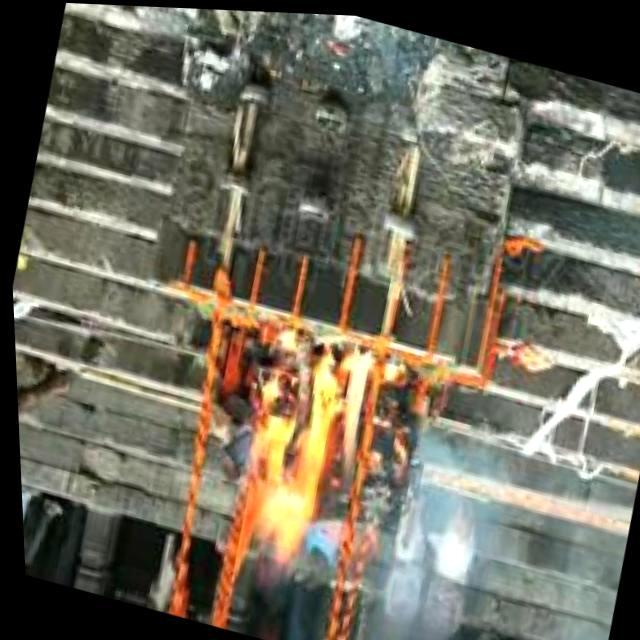fire: (214, 317, 386, 583)
